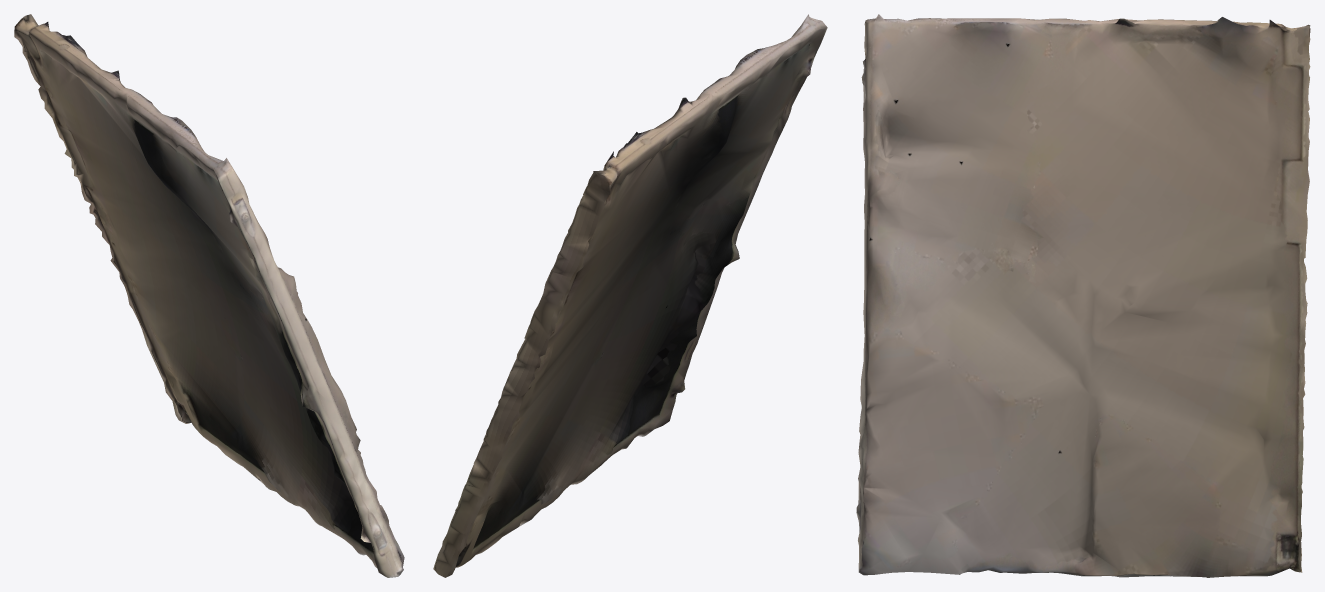
File: laptop_top.dae
The picture shows the model from 3 angles, left to right: view 1: azimuth 30°, elevation 25°; view 2: azimuth 150°, elevation 25°; view 3: azimuth 270°, elevation 25°; orthographic projection. The views are drawn at different scales.
Parts seen in each view (by area): view 1: laptop_top; view 2: laptop_top; view 3: laptop_top.
Boxes of the visible parts, x1,y1,x2,y2 form: laptop_top: (14, 14, 404, 577); laptop_top: (433, 14, 827, 577); laptop_top: (856, 14, 1310, 577).
Bounding box in the file's own units: 0.123 × 0.2408 × 0.2816.
Materials: 1 (1 with a texture image).
